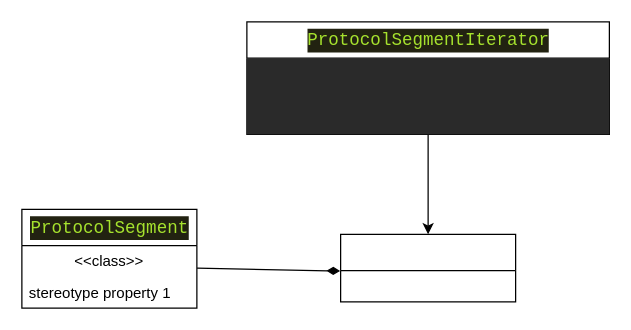
The diagram is 631 pixels wide and 330 high, and some of its shapes have lost their labels. Each missing label, with the centre of its shape:
filenames : List [ str ] load ( filename : str ) -> Iterable [ ProtocolSegment ]: (x=427, y=96)
ProtocolIterator: (x=427, y=267)
